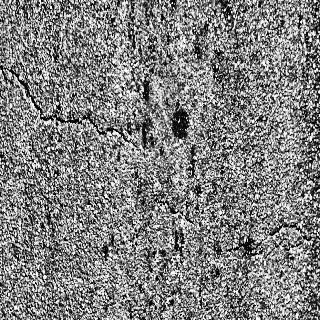crack: (2, 58, 139, 152), (226, 220, 314, 258), (154, 190, 196, 229)
